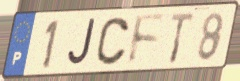1: (41, 18, 61, 71)
8: (196, 10, 225, 62)
C: (93, 16, 131, 67)
F: (127, 13, 167, 68)
J: (66, 17, 97, 68)
T: (169, 11, 196, 66)
